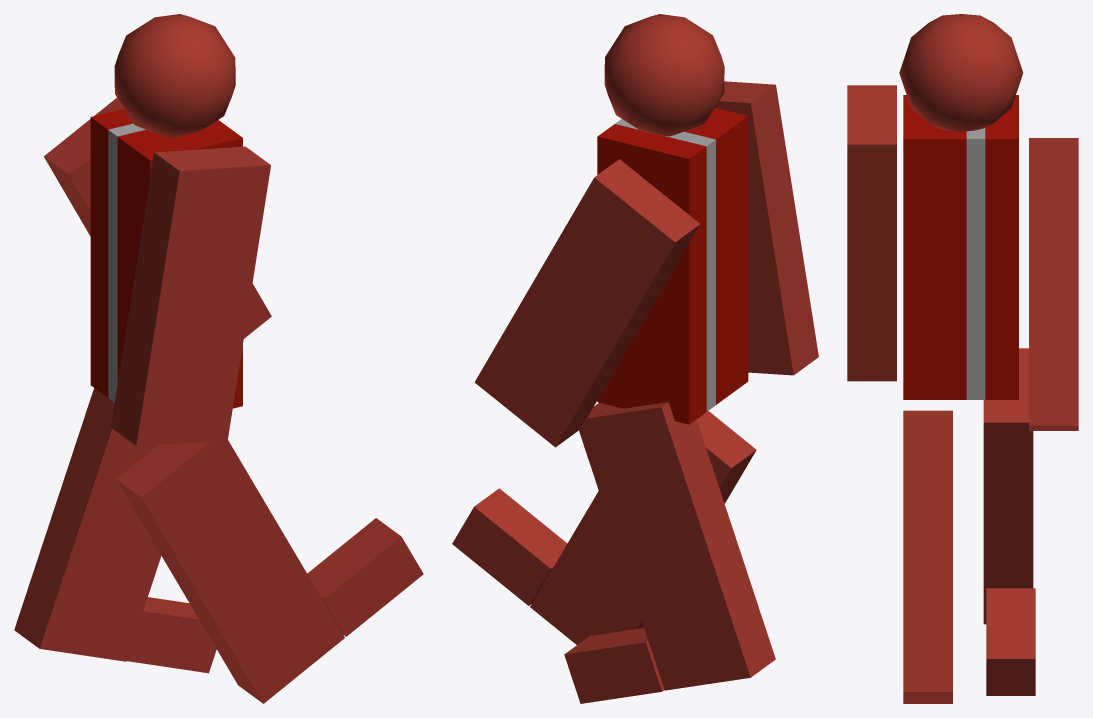
File: player_000015.obj
3 views of the same model, side by side, from view 1: azimuth 30°, elevation 25°; view 2: azimuth 150°, elevation 25°; view 3: azimuth 270°, elevation 25° (orthographic). The views are drawn at different scales.
Visible parts, largest first — view 1: Cube.013, Cube.010, Cube.008, Cube.007, Icosphere.001, Cube.011, Cube.009, Cube.012; view 2: Cube.008, Cube.012, Cube.007, Cube.013, Icosphere.001, Cube.010, Cube.011, Cube.009; view 3: Cube.007, Cube.013, Cube.012, Cube.010, Icosphere.001, Cube.008, Cube.009, Cube.011.
Boxes of the visible parts, box(x1,y1,x2,y2) form: Cube.013: box(111, 146, 270, 445); Cube.010: box(116, 440, 344, 703); Cube.008: box(14, 388, 161, 661); Cube.007: box(90, 109, 242, 408); Icosphere.001: box(114, 14, 235, 137); Cube.011: box(307, 518, 423, 636); Cube.009: box(127, 597, 216, 673); Cube.012: box(44, 98, 271, 338); Cube.008: box(579, 402, 775, 690); Cube.012: box(474, 159, 700, 447); Cube.007: box(597, 108, 748, 424); Cube.013: box(715, 81, 818, 375); Icosphere.001: box(604, 14, 724, 136); Cube.010: box(530, 411, 756, 644); Cube.011: box(452, 488, 567, 605); Cube.009: box(564, 628, 664, 703); Cube.007: box(903, 95, 1018, 399); Cube.013: box(847, 85, 896, 381); Cube.012: box(1029, 138, 1078, 430); Cube.010: box(903, 410, 952, 703); Icosphere.001: box(899, 14, 1023, 131); Cube.008: box(983, 348, 1033, 624); Cube.009: box(986, 588, 1035, 695); Cube.011: box(903, 639, 952, 697).
Bounding box in the file's own units: 1.52 × 2.87 × 0.9137.
